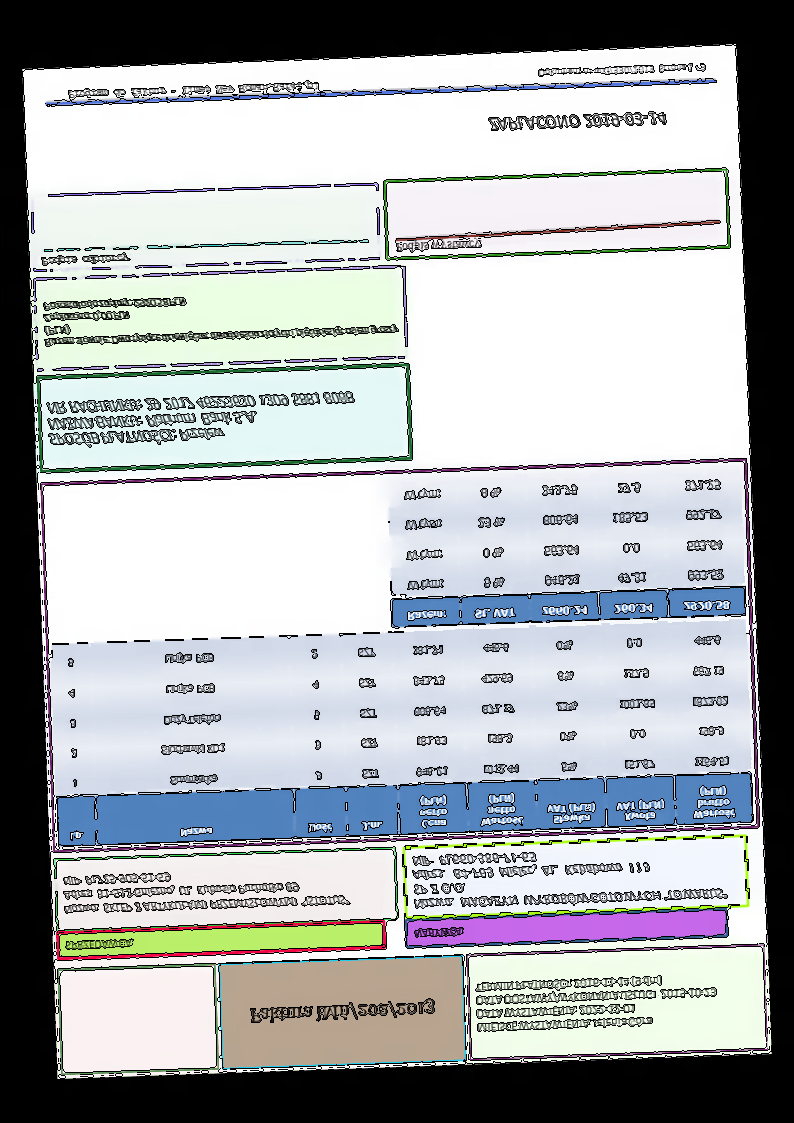Table: (49, 617, 753, 849), (386, 464, 747, 630)
TextBox: (41, 287, 400, 348), (410, 844, 729, 912), (45, 390, 357, 451), (473, 970, 719, 1036), (60, 864, 352, 917), (67, 78, 319, 101), (247, 996, 436, 1026), (486, 109, 667, 135), (536, 61, 708, 80), (395, 235, 483, 255), (39, 251, 133, 267), (63, 937, 134, 953), (412, 924, 465, 941)
